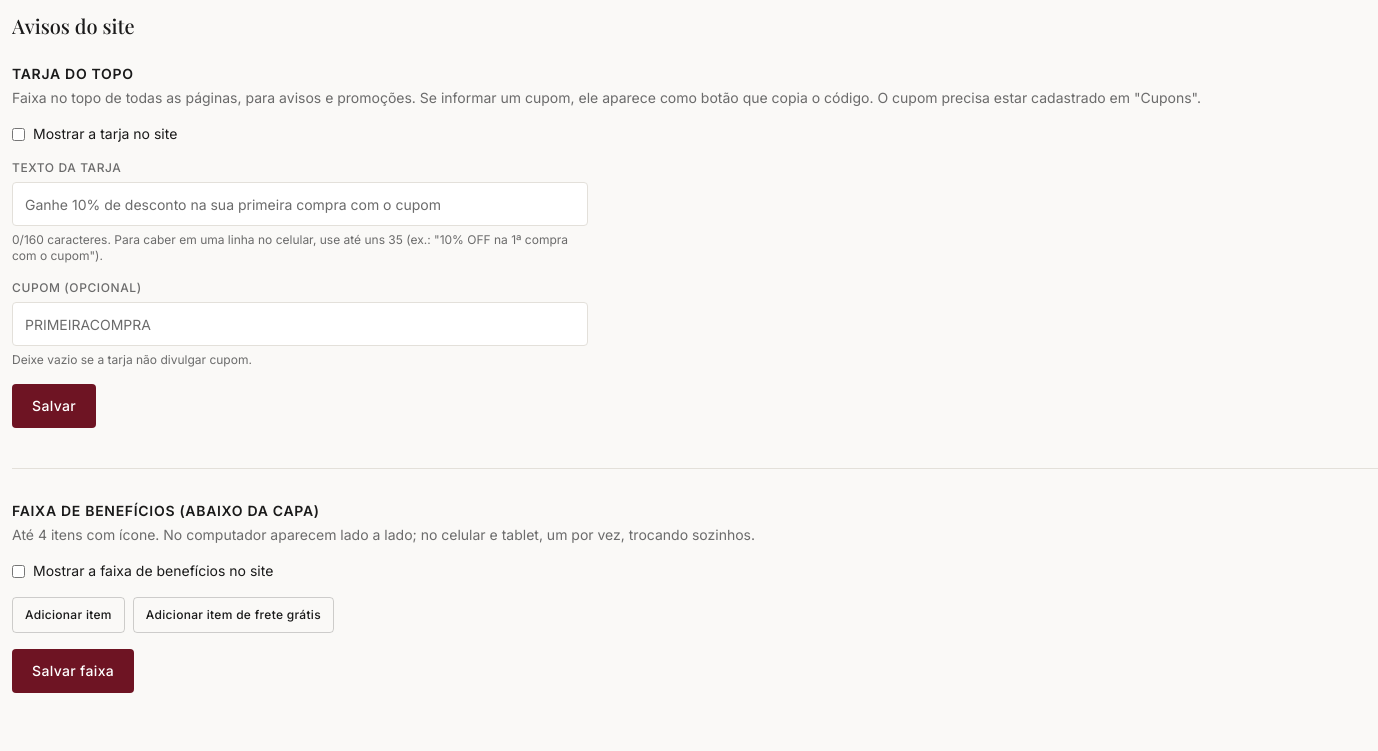
Scenario: AdminTarja › salva texto e cupom
The width and height of the screenshot is (1378, 751).
Click the checkbox labelled "Mostrar a tarja no site".
click(18, 134)  # box [12, 128, 25, 140]
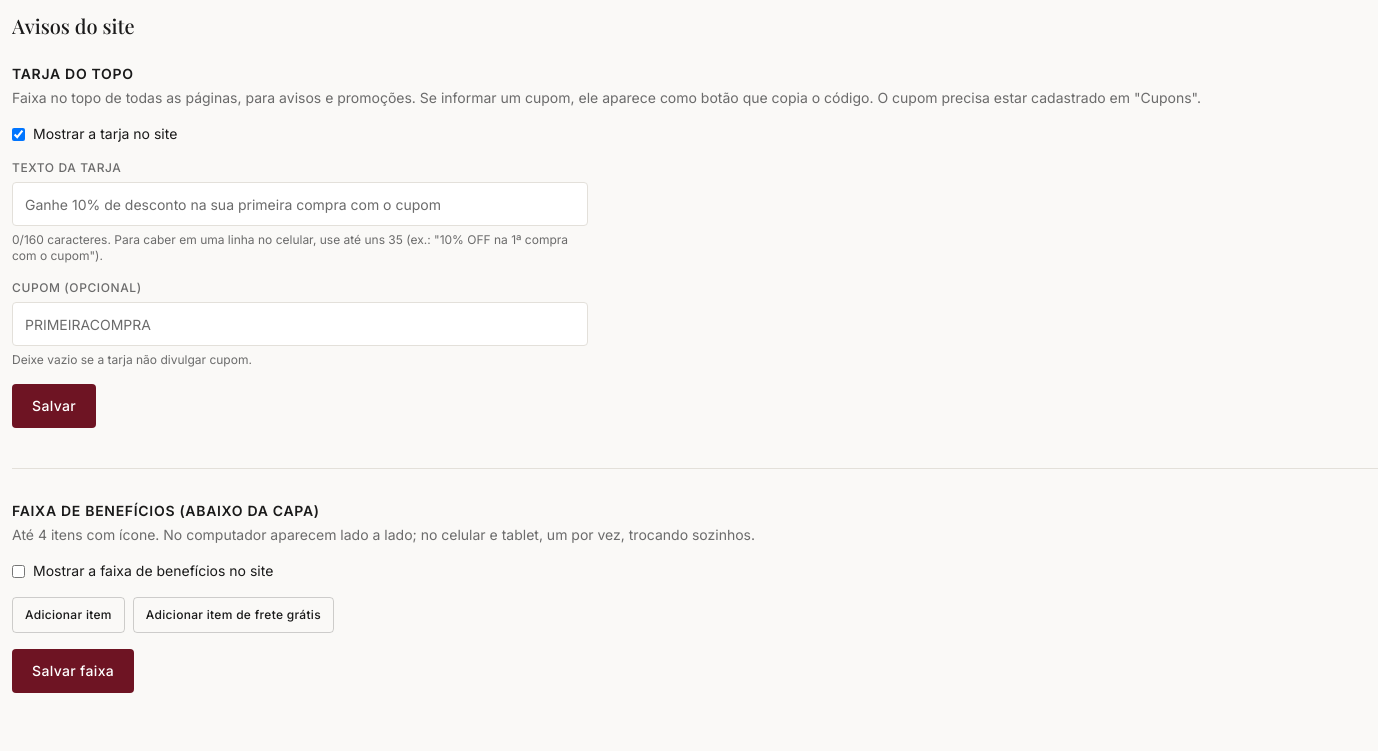
Type "Ganhe 10%" into the field labelled "Texto da tarja".
click(300, 204); type("Ganhe 10%")  # box [12, 182, 588, 226]
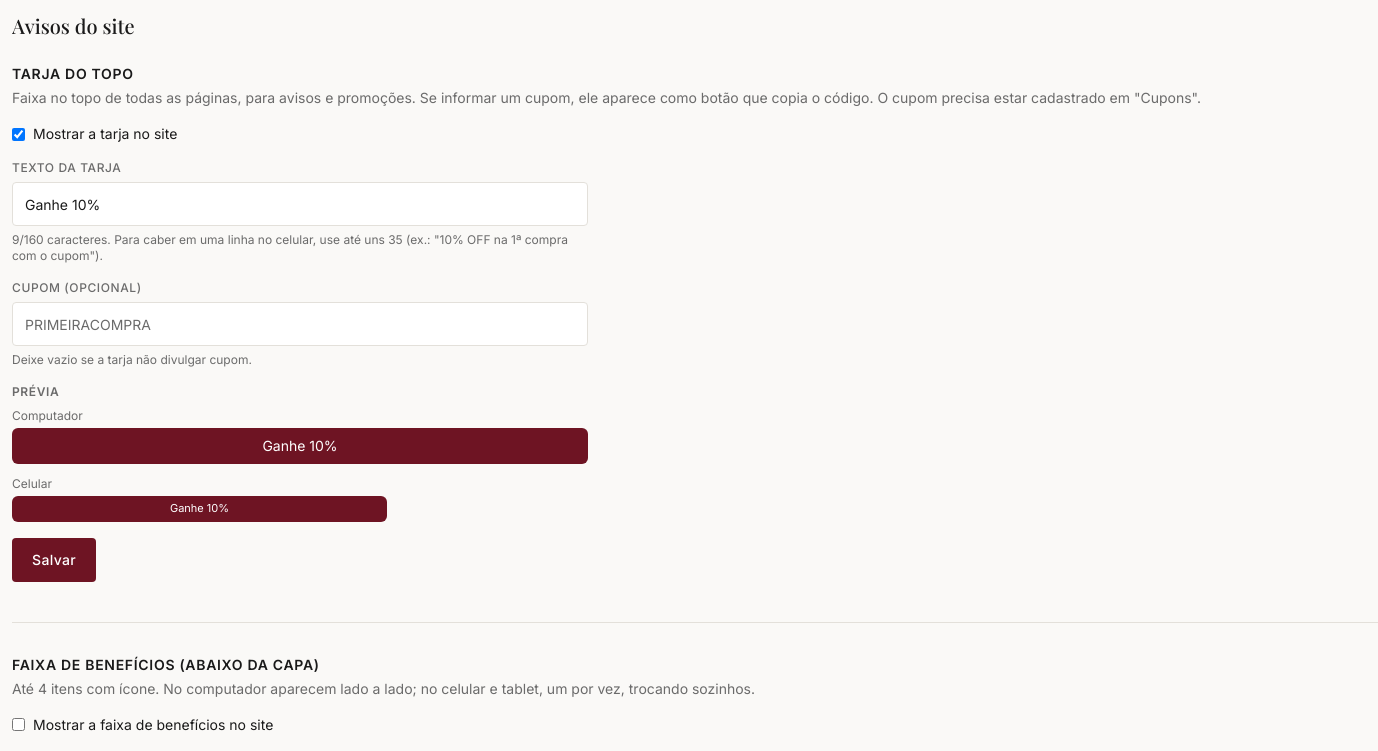
Type "primeiracompra" into the field labelled "Cupom (opcional)".
click(300, 324); type("primeiracompra")  # box [12, 302, 588, 346]
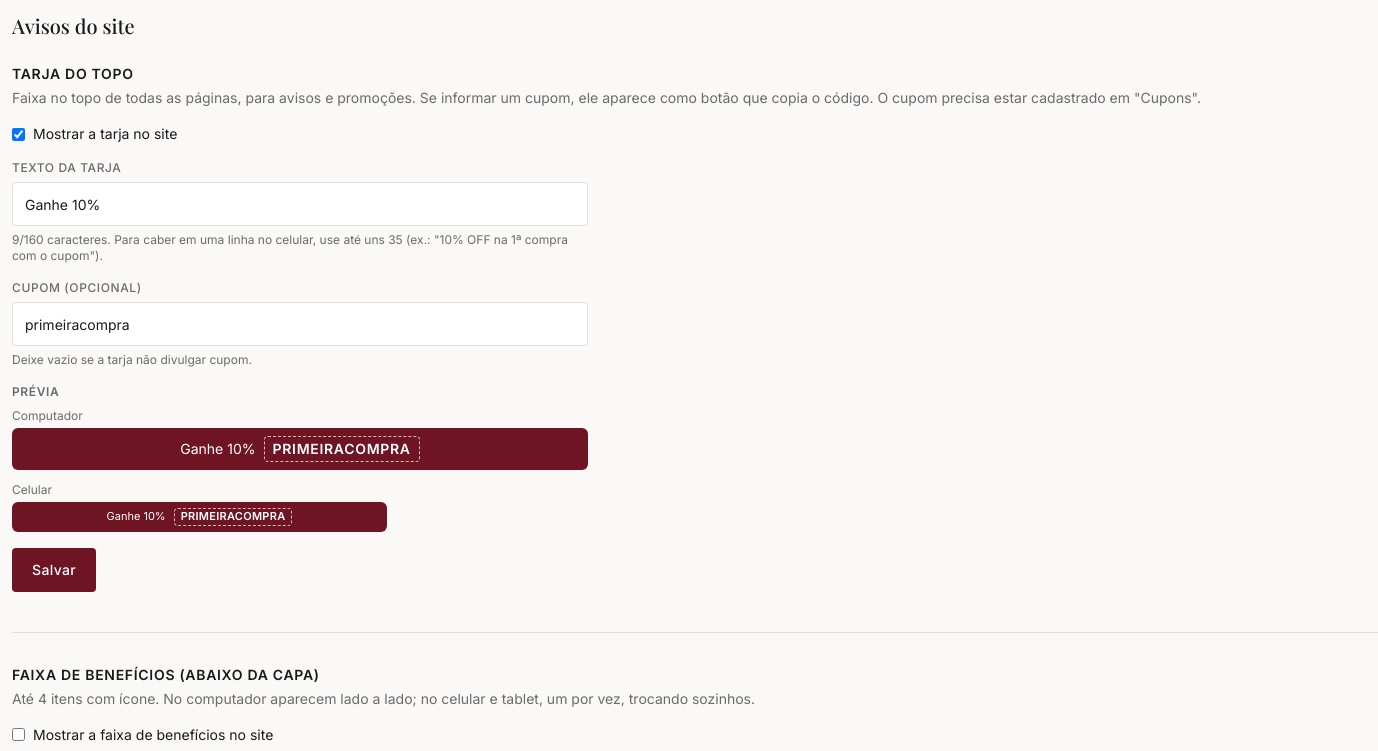
Click the button "Salvar".
click(54, 570)  # box [12, 548, 96, 592]
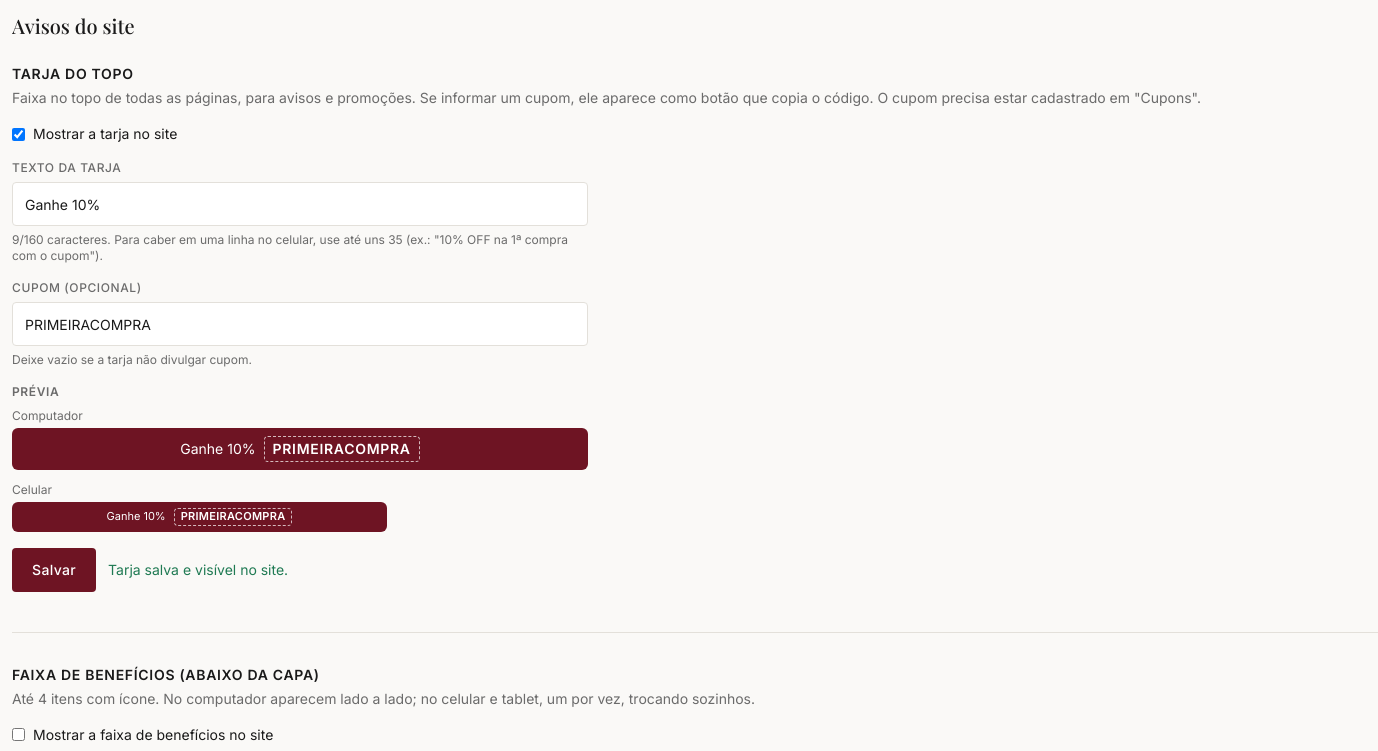
Now the text "Tarja salva e visível no site." is shown, box [108, 560, 288, 580]
